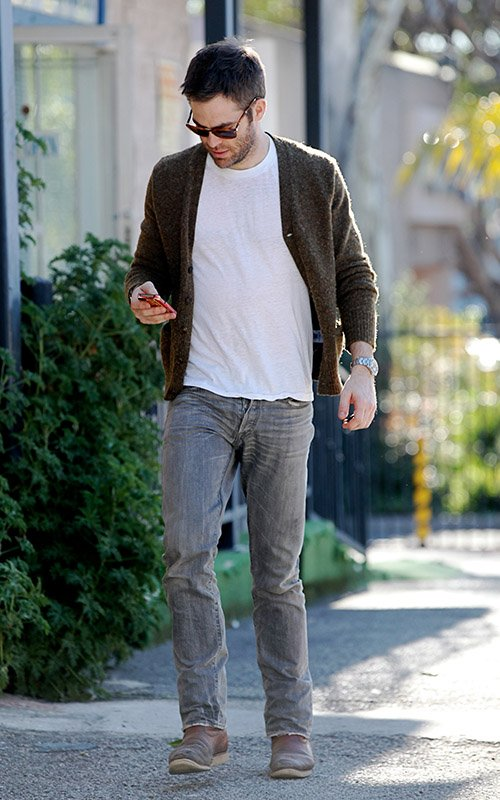Person: (124, 35, 380, 779)
